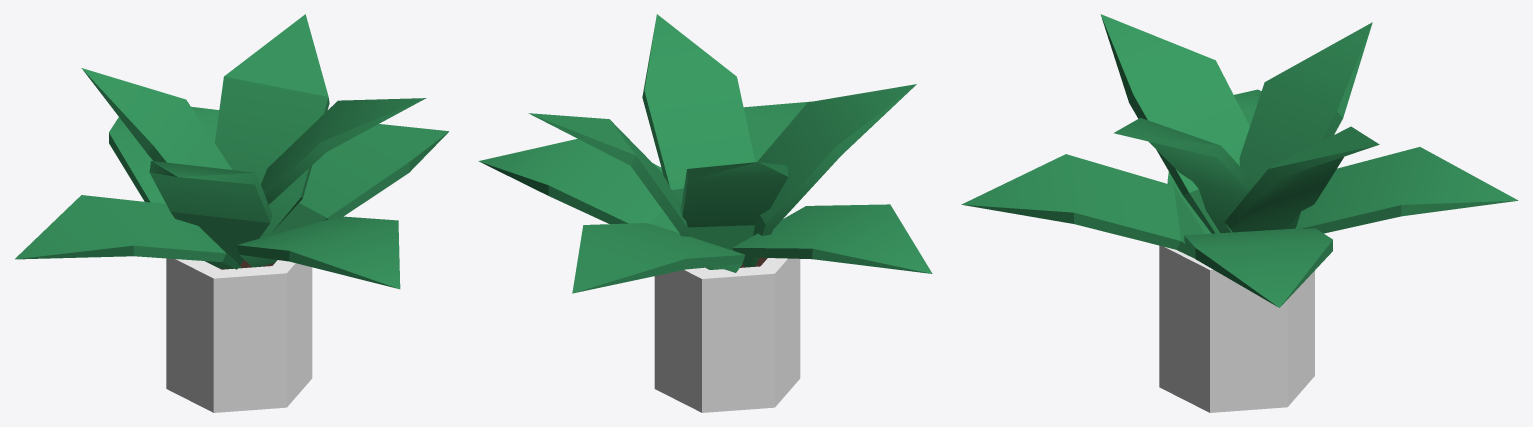
File: Plant.FBX
3 renders of one model, left to right at view 1: azimuth 30°, elevation 25°; view 2: azimuth 150°, elevation 25°; view 3: azimuth 270°, elevation 25°, orthographic. The views are drawn at different scales.
Visible parts, largest first — view 1: Plant; view 2: Plant; view 3: Plant.
Boxes of the visible parts, x1,y1,x2,y2 form: Plant: (15,14,448,412); Plant: (478,14,932,412); Plant: (961,14,1518,412).
Bounding box in the file's own units: 66.96 × 42.59 × 68.24.
